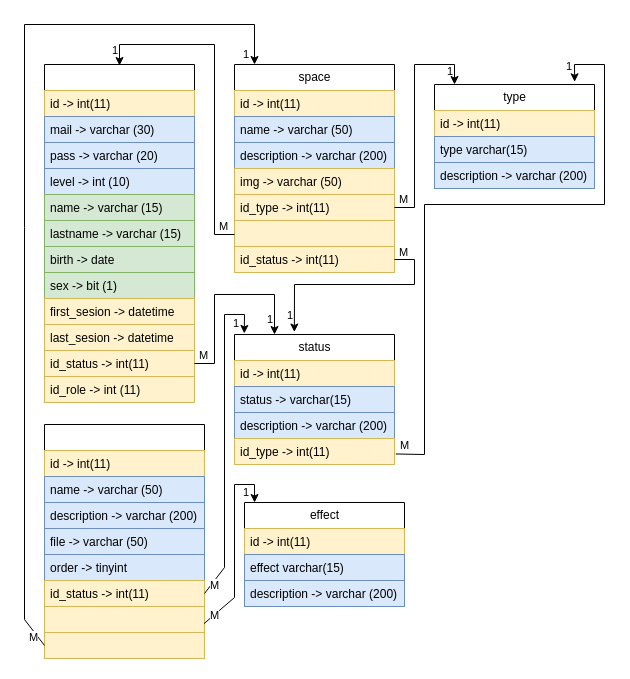
Some shapes in this 630 by 679 pixel diagram are drawn without their labels. The box of each missing label's shape, as (x1, y1, x2, y2) in pixels:
id_effect -> int(11): (44, 606, 204, 632)
id_space -> int (11 ): (44, 632, 204, 658)
id_usuario -> int (11): (234, 220, 394, 246)
items: (44, 424, 204, 658)
usuario: (44, 64, 194, 402)
